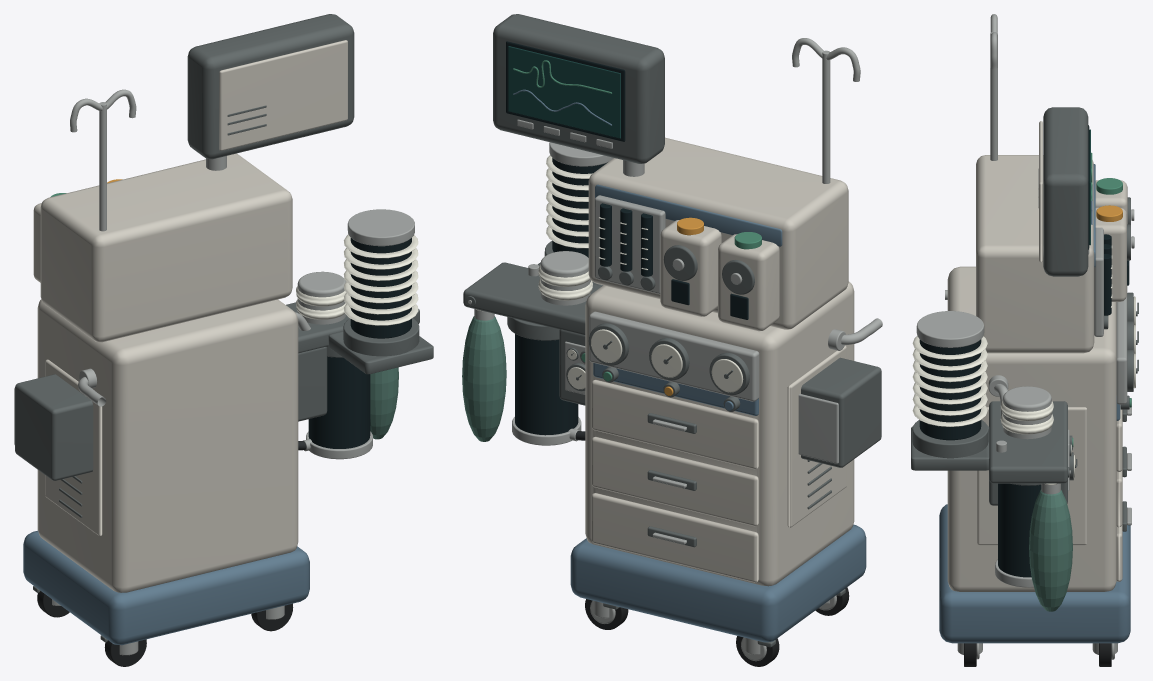
File: anesthesia.fbx
The picture shows the model from 3 angles, left to right: view 1: azimuth 30°, elevation 25°; view 2: azimuth 150°, elevation 25°; view 3: azimuth 270°, elevation 25°; orthographic projection. The views are drawn at different scales.
Parts seen in each view (by area): view 1: anesthesia; view 2: anesthesia, anesthesia_drawer1, anesthesia_drawer2, anesthesia_drawer3; view 3: anesthesia, anesthesia_drawer2, anesthesia_drawer1, anesthesia_drawer3.
Part boxes in pixels (bbox=[...]): anesthesia: bbox=[14, 14, 433, 666]; anesthesia: bbox=[462, 14, 882, 666]; anesthesia_drawer1: bbox=[591, 493, 758, 582]; anesthesia_drawer2: bbox=[591, 436, 758, 526]; anesthesia_drawer3: bbox=[591, 379, 758, 469]; anesthesia: bbox=[911, 14, 1138, 666]; anesthesia_drawer2: bbox=[1116, 446, 1131, 527]; anesthesia_drawer1: bbox=[1116, 501, 1131, 581]; anesthesia_drawer3: bbox=[1116, 398, 1131, 471].
Bounding box in the file's own units: 1.53 × 2.21 × 0.8094.
